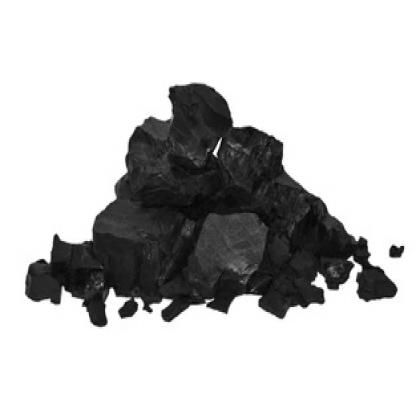Sedimentary_coal: (82, 186, 182, 270), (187, 206, 270, 304), (156, 59, 239, 152)
